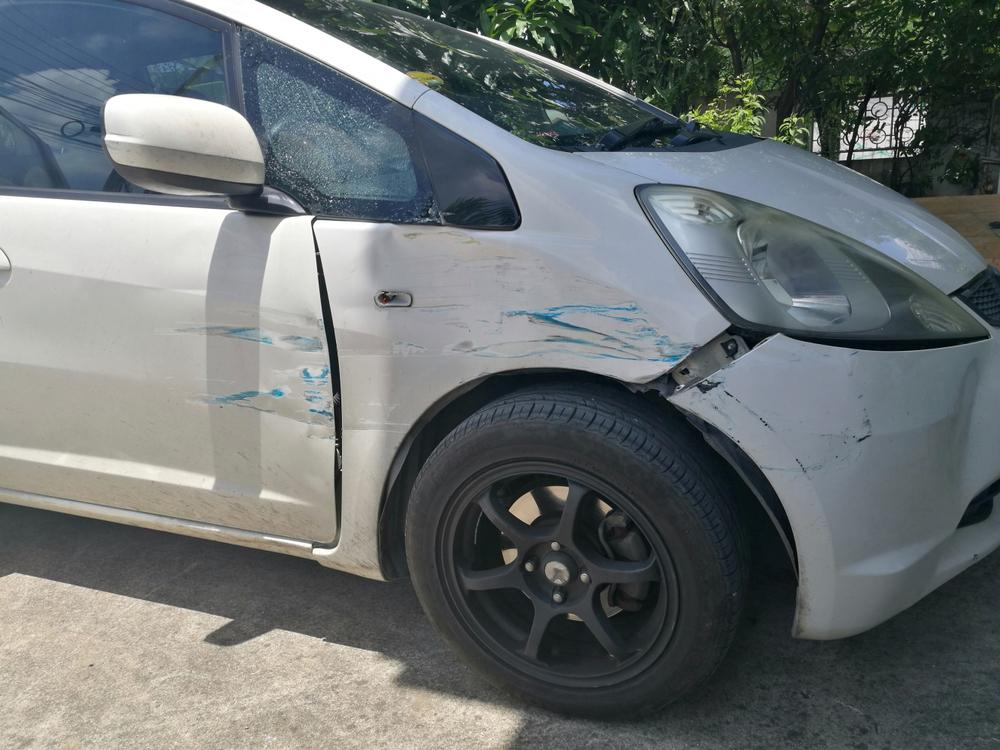dent: (367, 235, 680, 480)
glass shatter: (239, 25, 445, 224)
scratch: (161, 281, 337, 444), (682, 374, 882, 483)
